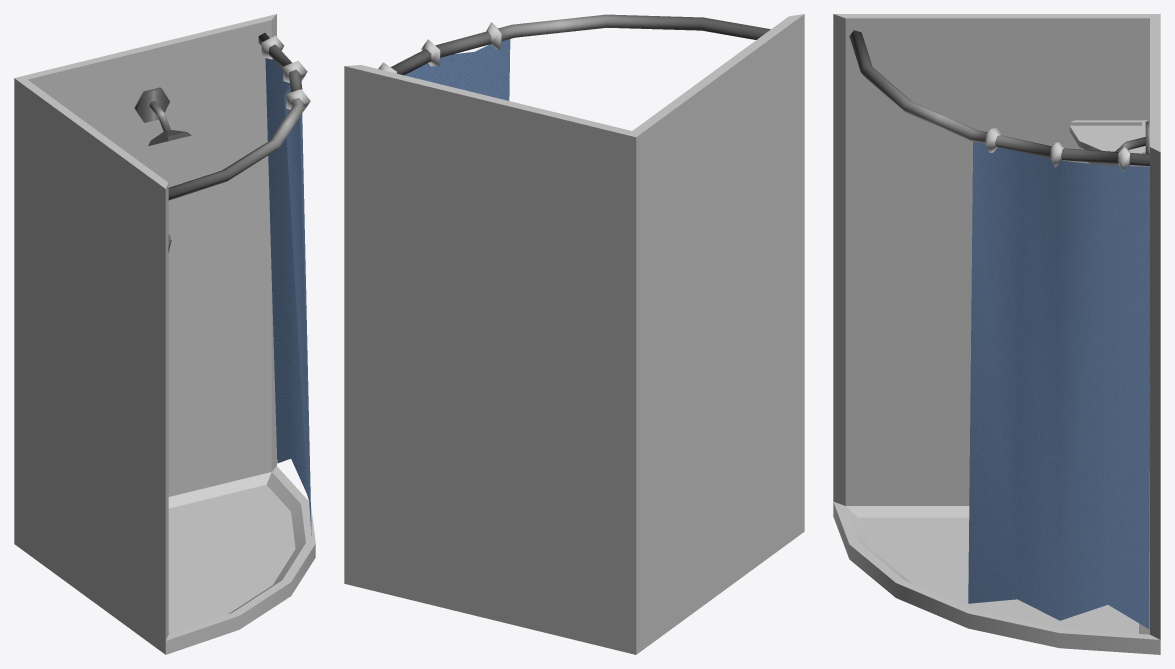
Rendered from Shower_Stall_A.FBX.
3 renders of one model, left to right at view 1: azimuth 30°, elevation 25°; view 2: azimuth 150°, elevation 25°; view 3: azimuth 270°, elevation 25°, orthographic. The views are drawn at different scales.
Parts seen in each view (by area): view 1: Shower_Stall; view 2: Shower_Stall; view 3: Shower_Stall.
Part boxes in pixels (<box>): Shower_Stall: <box>14,14,315,654</box>; Shower_Stall: <box>344,14,804,654</box>; Shower_Stall: <box>833,14,1160,654</box>.
Size of the model in its own units: 295 by 500 by 295.
